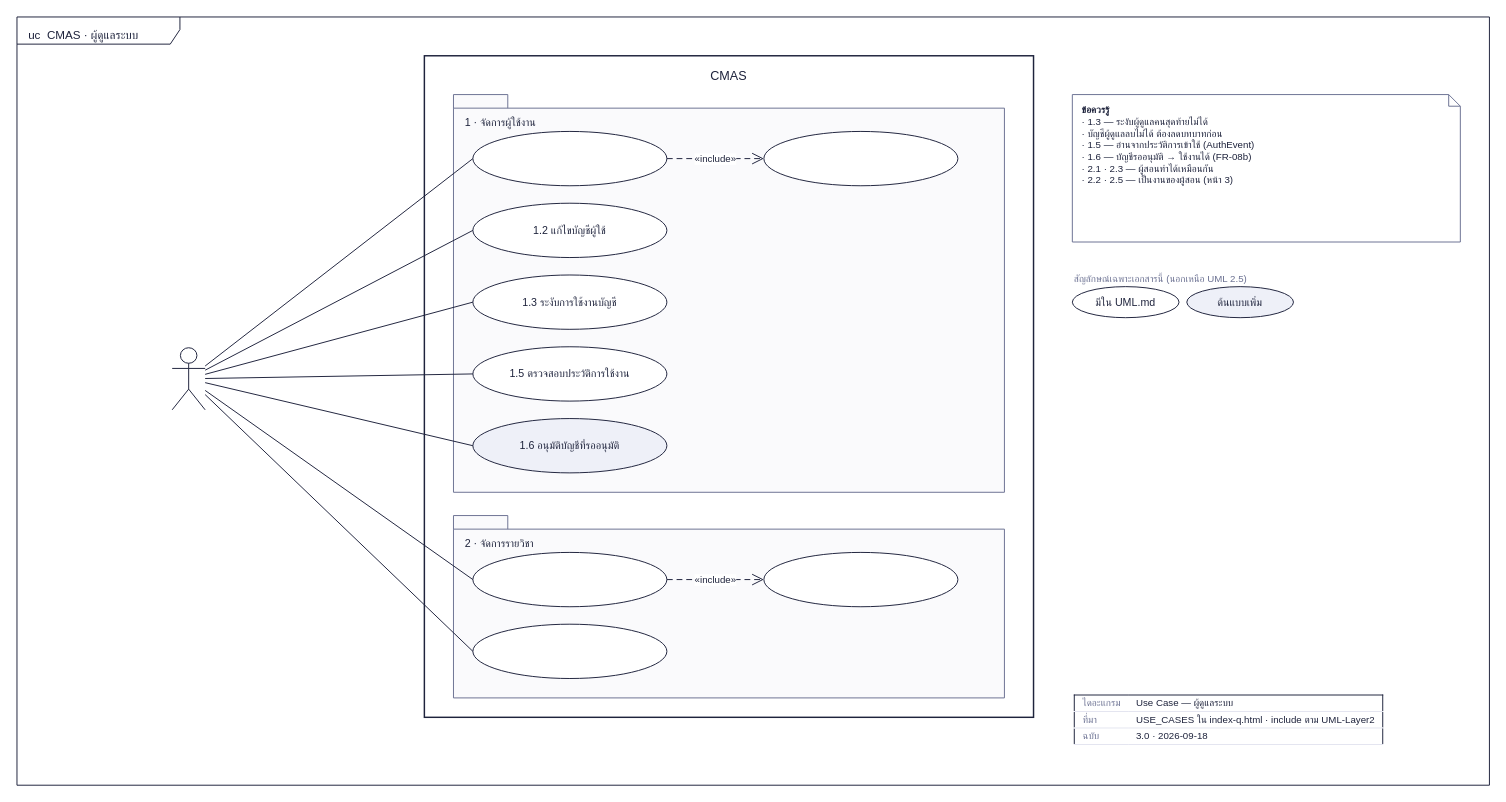
Some shapes in this 1506 by 802 pixel diagram are drawn without their labels. The shapes that lost their labels are listed below. From the top down, each one's centre as x and y in pixels, then its label:
[569,158]: 1.1 เพิ่มบัญชีผู้ใช้
[860,158]: 1.4 กำหนดบทบาทและสิทธิ์
[188,378]: ผู้ดูแลระบบ ADMIN
[569,579]: 2.1 สร้างรายวิชา
[860,579]: 2.4 มอบหมายผู้สอนประจำรายวิชา
[569,651]: 2.3 ลบรายวิชา
